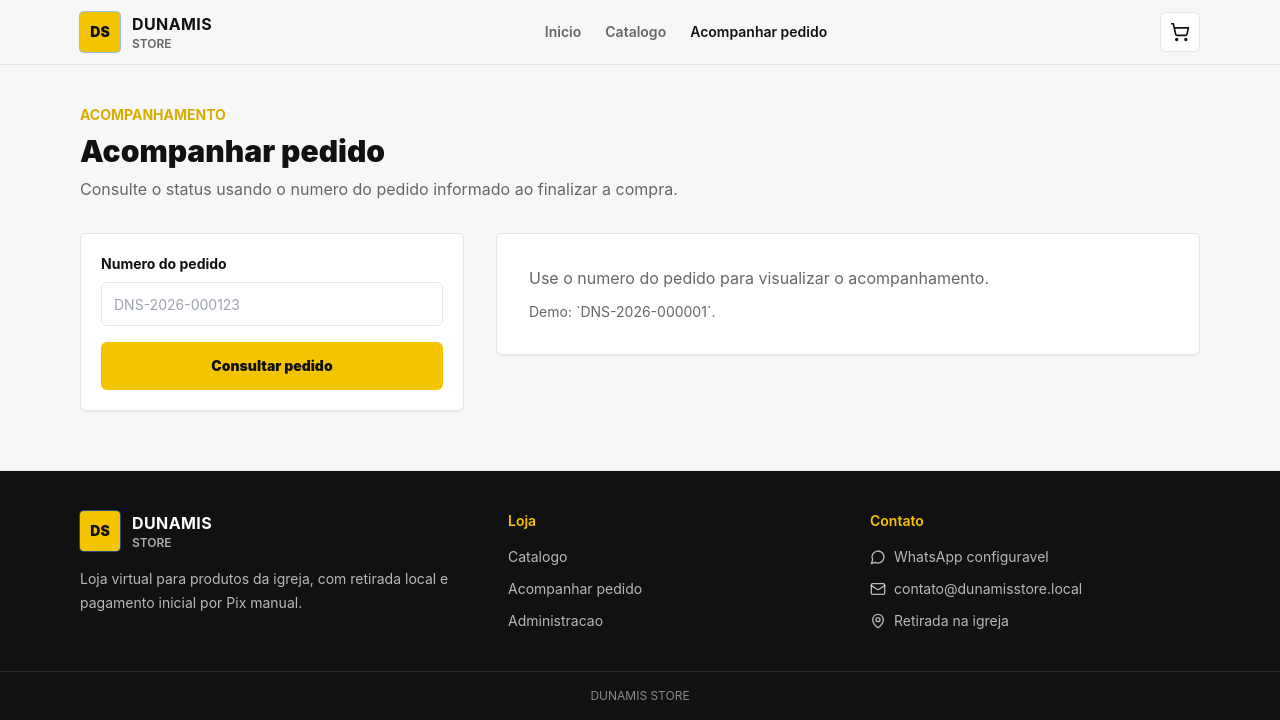
Test: OrderTrackingPage › shows an error for invalid tracking data
Type "DNS-2026-999999" into the field labelled "Numero do pedido".
click(272, 304); type("DNS-2026-999999")  # box x1=101 y1=282 x2=443 y2=326
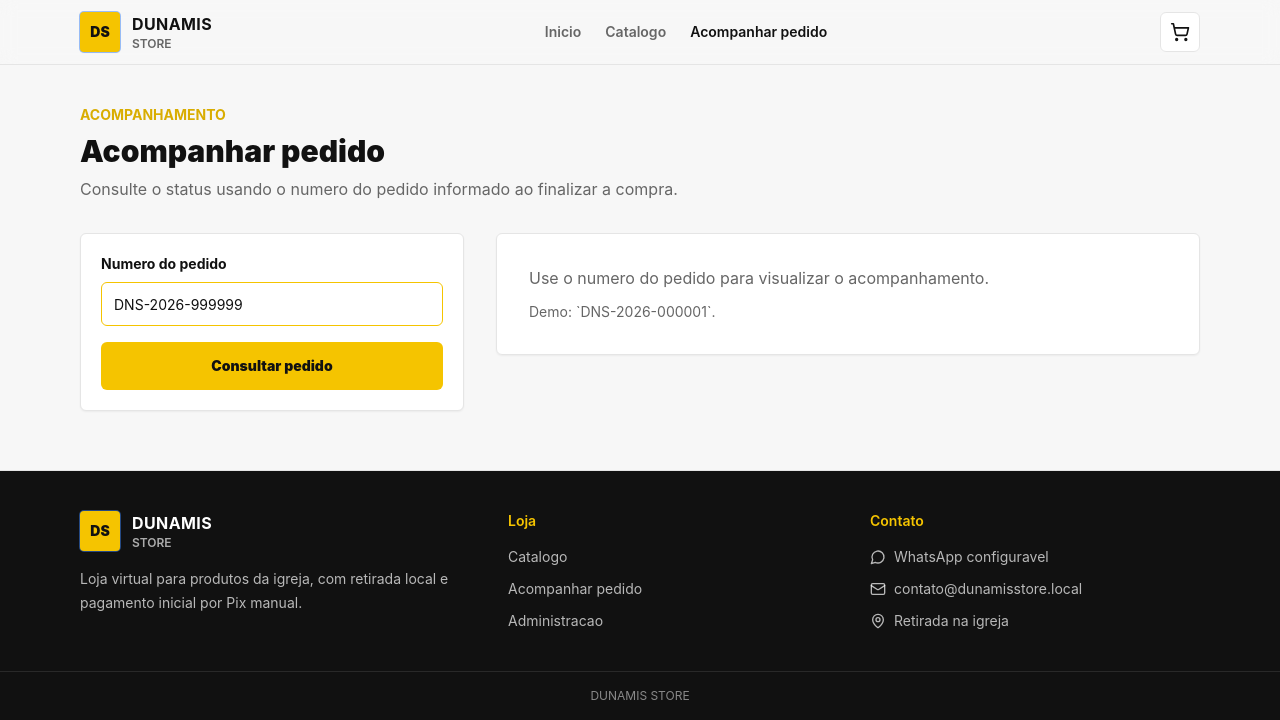
Click the button "Consultar pedido".
click(272, 366)  # box x1=101 y1=342 x2=443 y2=390
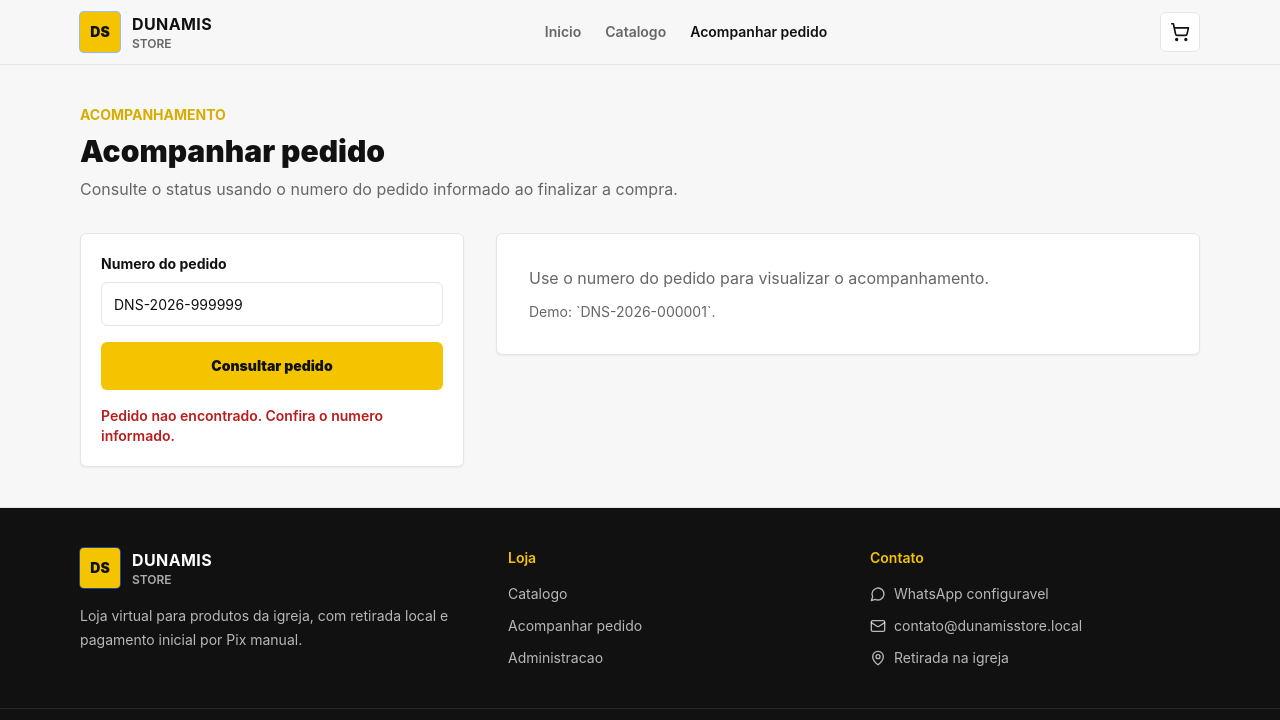
Expected: the text "Pedido nao encontrado. Confira o numero informado." is shown, x1=101 y1=407 x2=383 y2=444
